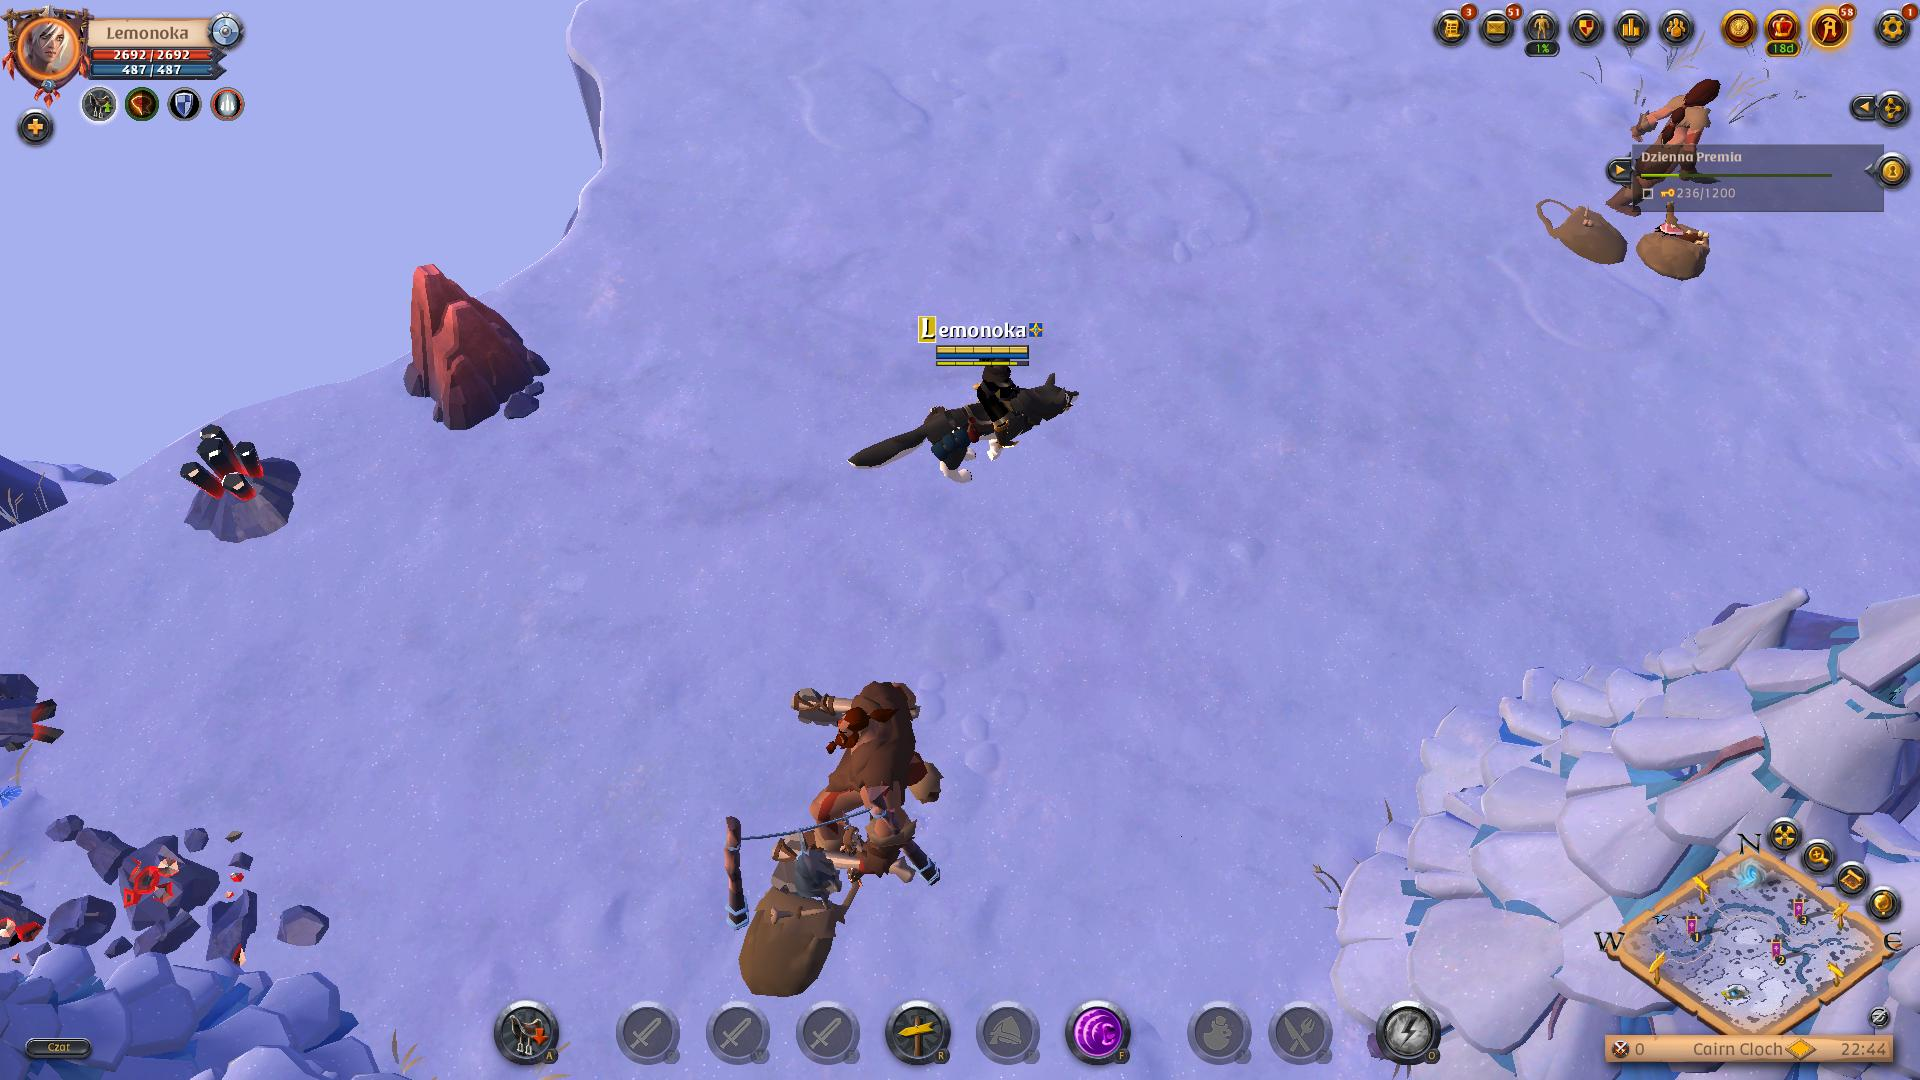ore tier 5: (170, 427, 298, 551)
rock tier 5: (400, 261, 556, 438)
